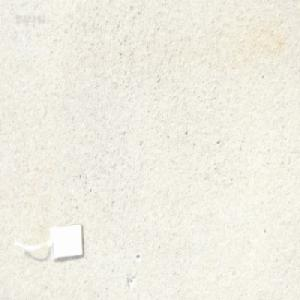LuggageTag: (13, 221, 86, 263)
